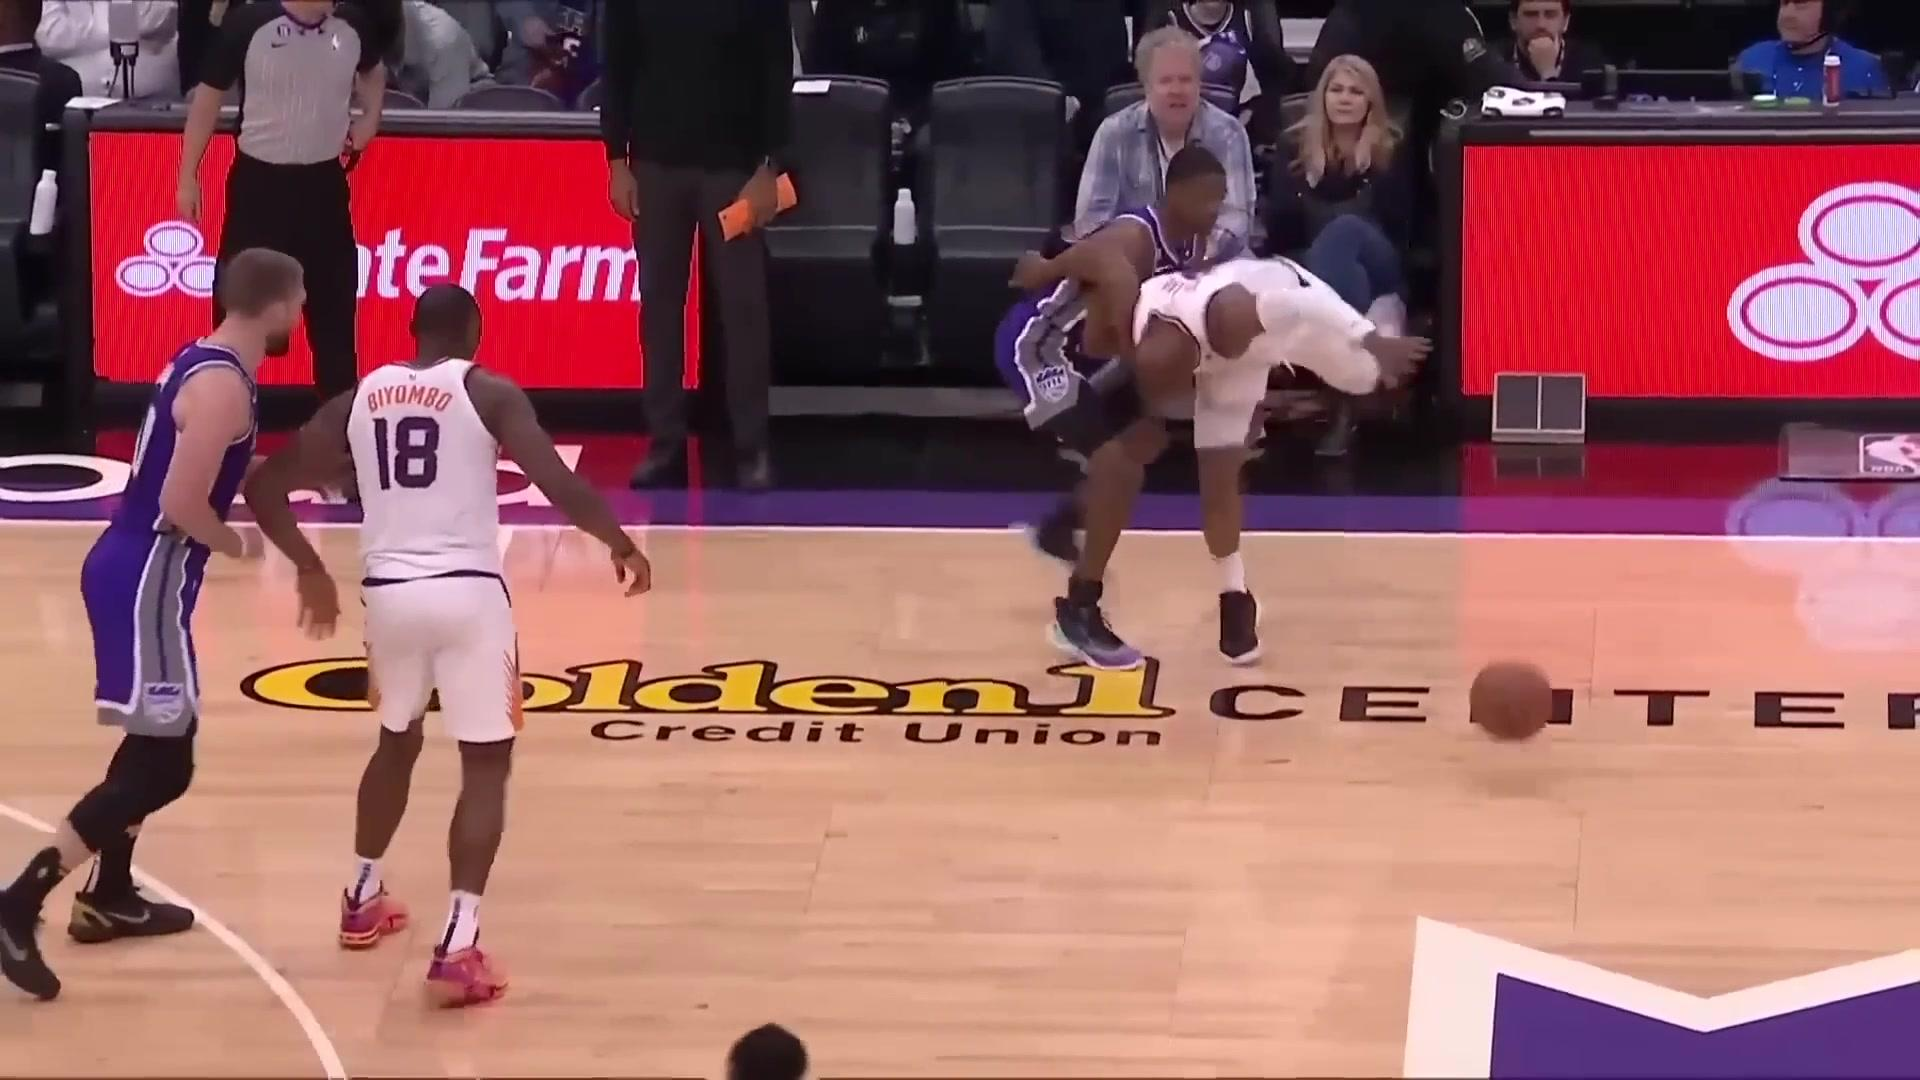foul: (982, 144, 1419, 665)
